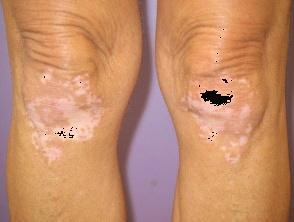vitiligo: (0, 23, 141, 213), (169, 44, 275, 196)
